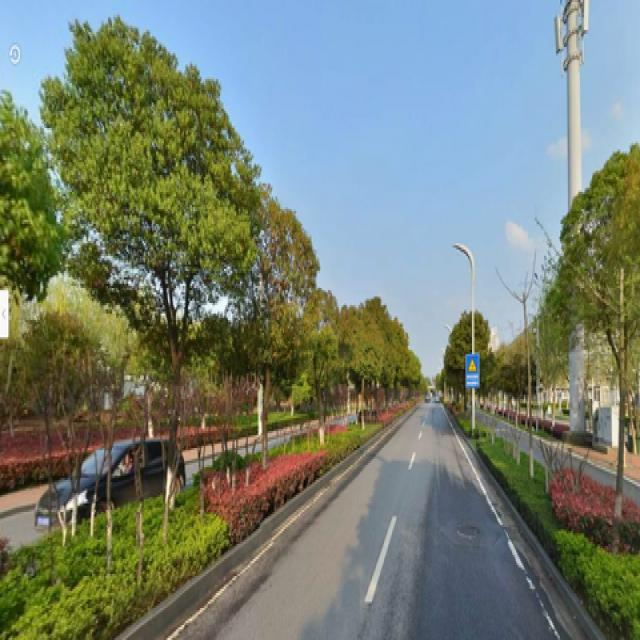cinn: (64, 47, 205, 448)
